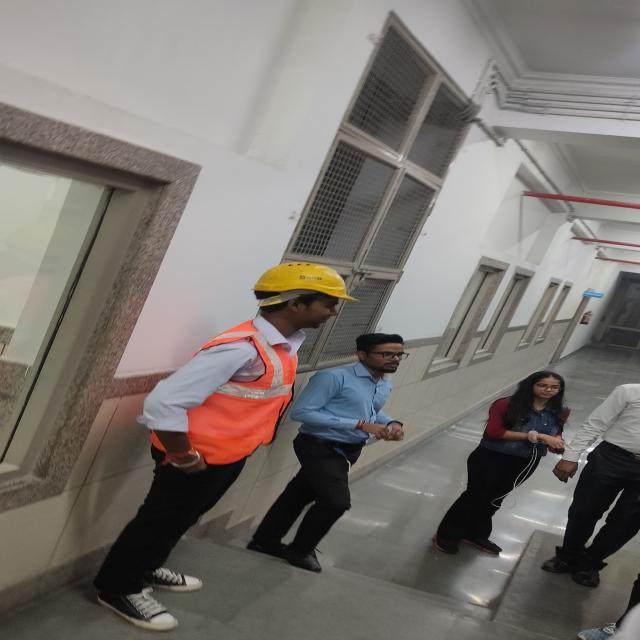safe: (100, 258, 366, 630)
unsafe: (273, 332, 423, 568), (427, 371, 589, 564)
